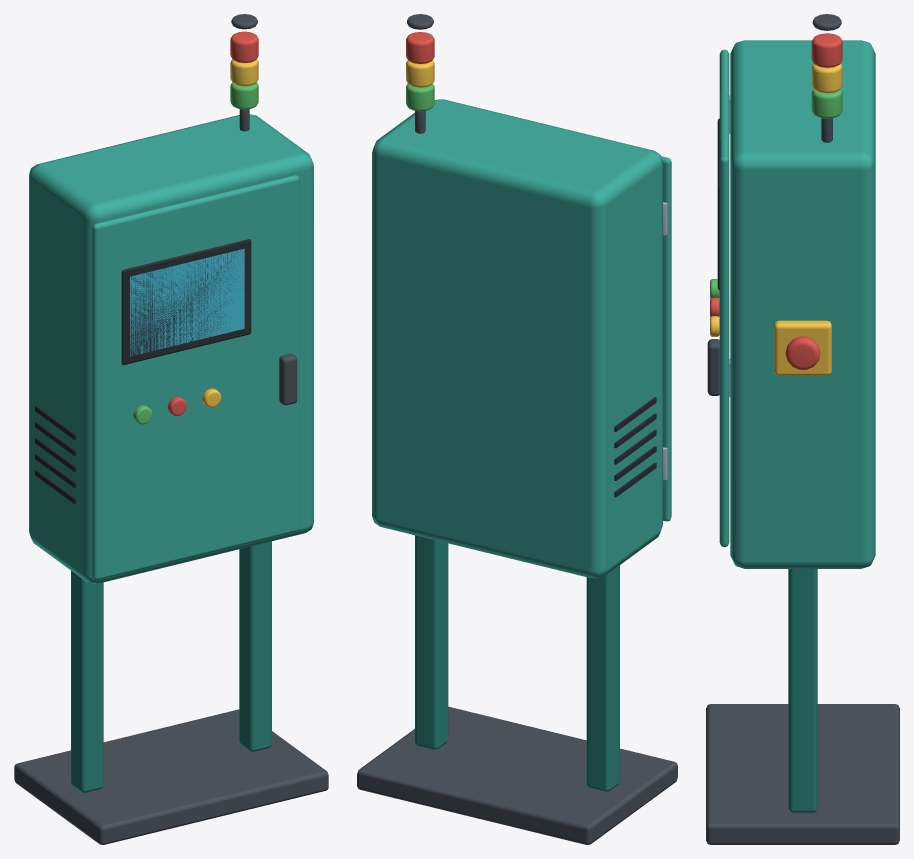
The model's file is clp_padrao.glb.
The picture shows the model from 3 angles, left to right: view 1: azimuth 30°, elevation 25°; view 2: azimuth 150°, elevation 25°; view 3: azimuth 270°, elevation 25°; orthographic projection. The views are drawn at different scales.
Visible parts, largest first — view 1: chapa_porta, gabinete, base, pe (×2), tela, moldura_tela, fechadura, luz_vermelha, luz_verde, luz_ambar; view 2: gabinete, base, pe (×2), chapa_porta, luz_vermelha, luz_ambar, luz_verde; view 3: gabinete, base, pe, chapa_porta, protecao_emergencia, luz_vermelha, emergencia, luz_ambar, luz_verde, fechadura, moldura_tela, tampa_torre.
Boxes of the visible parts, box(x1,y1,x2,y2) form: chapa_porta: box(92, 175, 299, 579); gabinete: box(29, 114, 313, 583); base: box(14, 709, 328, 844); pe (×2): box(71, 541, 271, 792); tela: box(130, 248, 244, 356); moldura_tela: box(121, 239, 251, 364); fechadura: box(279, 353, 297, 405); luz_vermelha: box(230, 31, 258, 62); luz_verde: box(230, 82, 258, 109); luz_ambar: box(230, 59, 258, 86); gabinete: box(372, 99, 662, 578); base: box(357, 706, 677, 844); pe (×2): box(415, 535, 619, 791); chapa_porta: box(661, 156, 671, 521); luz_vermelha: box(406, 32, 434, 63); luz_ambar: box(406, 60, 434, 87); luz_verde: box(406, 84, 434, 111); gabinete: box(730, 40, 875, 568); base: box(706, 704, 899, 844); pe: box(788, 569, 817, 812); chapa_porta: box(719, 49, 729, 547); protecao_emergencia: box(774, 320, 831, 375); luz_vermelha: box(811, 33, 842, 67); emergencia: box(785, 336, 820, 369); luz_ambar: box(811, 63, 842, 93); luz_verde: box(811, 89, 842, 118); fechadura: box(707, 339, 719, 395); moldura_tela: box(717, 118, 719, 290); tampa_torre: box(812, 14, 841, 30).
Bounding box in the file's own units: 0.66 × 1.85 × 0.4.
